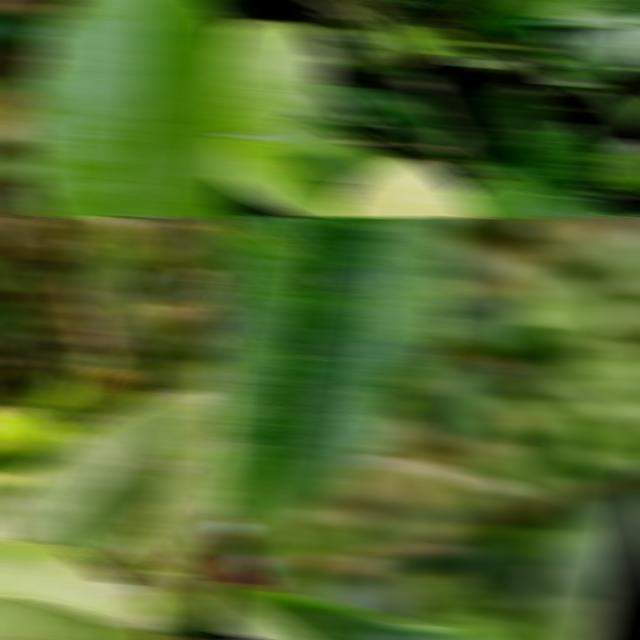Leaf: (216, 216, 459, 551), (16, 0, 232, 218), (0, 386, 209, 562), (142, 355, 232, 568), (0, 539, 165, 640), (528, 495, 639, 640), (222, 590, 505, 640), (216, 19, 331, 135), (69, 244, 155, 397), (224, 117, 399, 184), (216, 136, 346, 218), (328, 157, 484, 218), (313, 84, 449, 144), (467, 84, 553, 176), (505, 121, 606, 195), (421, 355, 492, 447), (133, 301, 196, 394), (454, 175, 587, 218), (84, 216, 155, 294), (549, 24, 640, 81), (412, 26, 515, 74), (0, 405, 68, 473), (27, 362, 84, 432), (143, 227, 232, 270), (456, 0, 635, 21), (79, 381, 150, 414), (375, 21, 435, 59), (587, 88, 640, 131), (540, 195, 635, 218), (0, 298, 38, 355), (216, 179, 267, 218)
